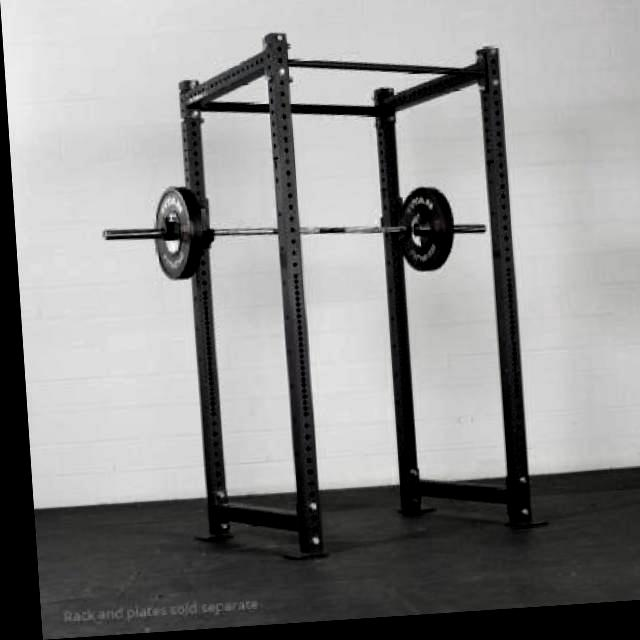barbell: (86, 182, 192, 290)
